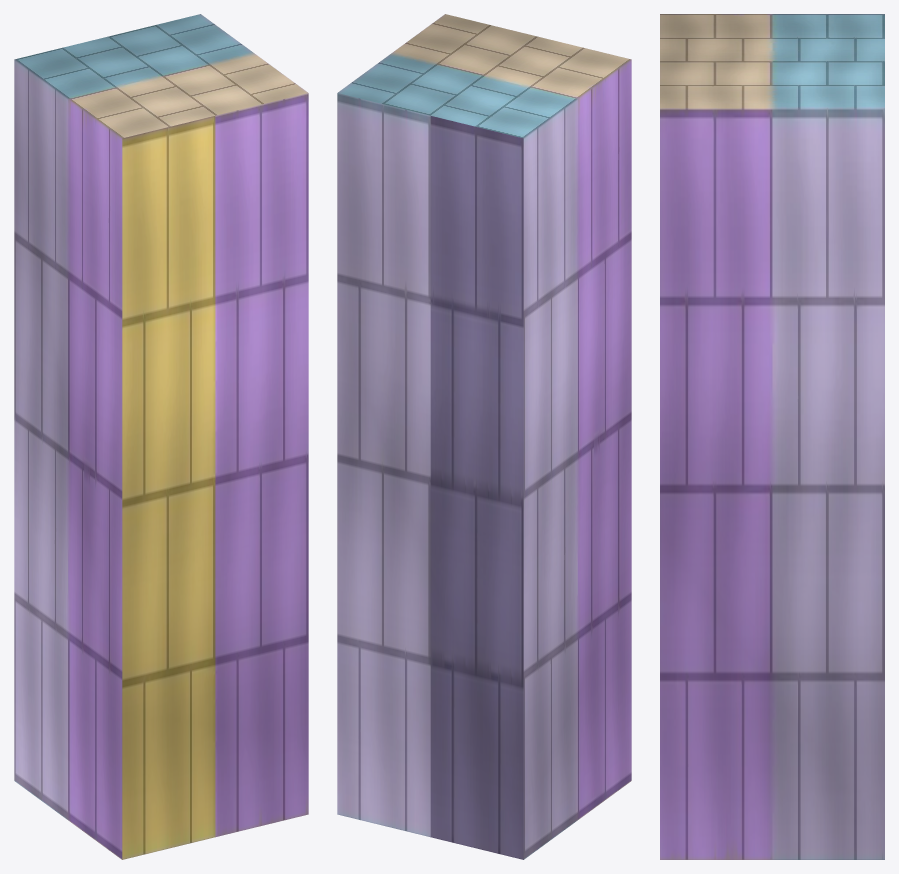
File: torch_stand.glb
3 renders of one model, left to right at view 1: azimuth 30°, elevation 25°; view 2: azimuth 150°, elevation 25°; view 3: azimuth 270°, elevation 25°, orthographic. The views are drawn at different scales.
Visible parts, largest first — view 1: col; view 2: col; view 3: col.
Boxes of the visible parts, x1,y1,x2,y2 form: col: (14,14,308,859); col: (337,14,631,859); col: (660,14,884,859).
Bounding box in the file's own units: 0.575 × 2.13 × 0.5765.
Materials: 1 (1 with a texture image).
